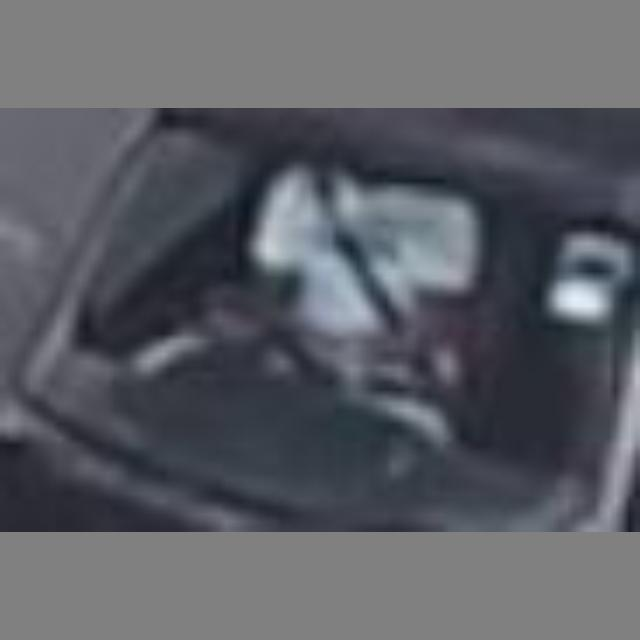pakai: (257, 157, 480, 400)
